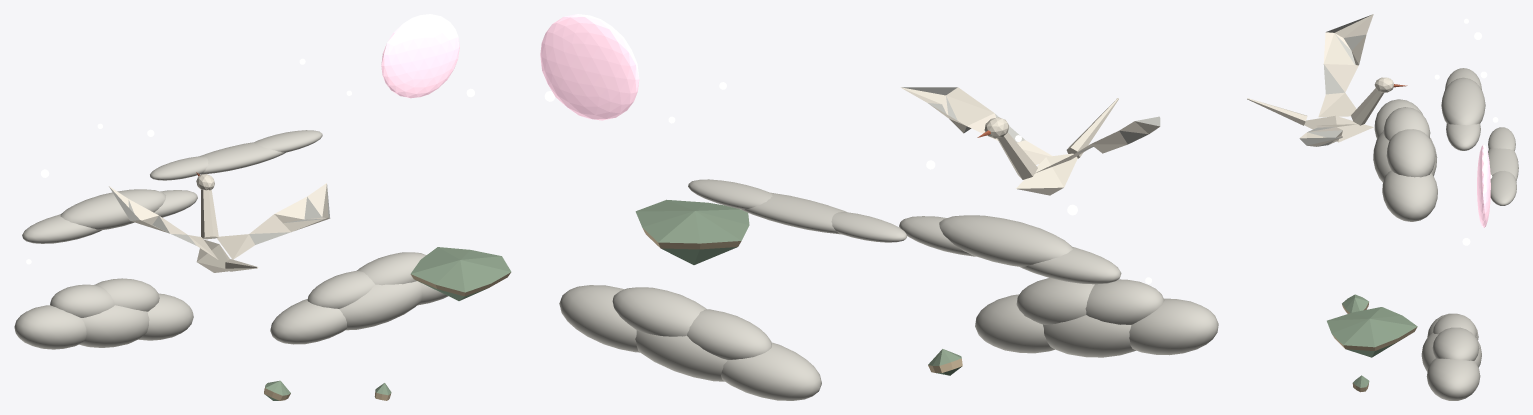
The model's file is hero.glb.
3 renders of one model, left to right at view 1: azimuth 30°, elevation 25°; view 2: azimuth 150°, elevation 25°; view 3: azimuth 270°, elevation 25°, orthographic. The views are drawn at different scales.
Visible parts, largest first — view 1: CloudA, CloudB, Moon, CloudD, Island, CloudC, CraneWingR, CraneWingL, CraneNeck, CraneBody; view 2: CloudB, CloudA, Moon, CloudD, CloudC, Island, CraneWingR, CraneBody, CraneWingL, CraneNeck, CraneTail, ShardA; view 3: CloudA, CloudB, CraneWingL, Island, CloudD, CloudC, Moon, CraneWingR, CraneBody, CraneNeck, CraneTail, ShardA (+1 smaller).
Boxes of the visible parts, <box> form: CloudA: <box>14,278,193,349</box>; CloudB: <box>270,252,448,344</box>; Moon: <box>381,14,459,98</box>; CloudD: <box>22,189,197,243</box>; Island: <box>410,247,511,300</box>; CloudC: <box>150,130,322,180</box>; CraneWingR: <box>217,183,330,259</box>; CraneWingL: <box>109,186,218,259</box>; CraneNeck: <box>201,189,218,239</box>; CraneBody: <box>196,239,229,272</box>; CloudB: <box>559,285,821,400</box>; CloudA: <box>975,278,1218,357</box>; Moon: <box>540,14,639,120</box>; CloudD: <box>899,215,1121,284</box>; CloudC: <box>688,179,907,242</box>; Island: <box>635,199,749,264</box>; CraneWingR: <box>900,87,1052,164</box>; CraneBody: <box>1016,153,1077,195</box>; CraneWingL: <box>1035,116,1160,173</box>; CraneNeck: <box>997,132,1037,179</box>; CraneTail: <box>1066,98,1118,158</box>; ShardA: <box>928,349,962,375</box>; CloudA: <box>1373,99,1437,221</box>; CloudB: <box>1421,313,1481,400</box>; CraneWingL: <box>1318,14,1373,117</box>; Island: <box>1327,307,1417,357</box>; CloudD: <box>1441,68,1485,150</box>; CloudC: <box>1488,127,1518,205</box>; Moon: <box>1477,144,1490,227</box>; CraneWingR: <box>1299,124,1358,146</box>; CraneBody: <box>1304,115,1373,142</box>; CraneNeck: <box>1351,88,1383,125</box>; CraneTail: <box>1247,98,1307,125</box>; ShardA: <box>1342,294,1368,313</box>.
Bounding box in the file's own units: 9.06 × 5.45 × 4.66.
